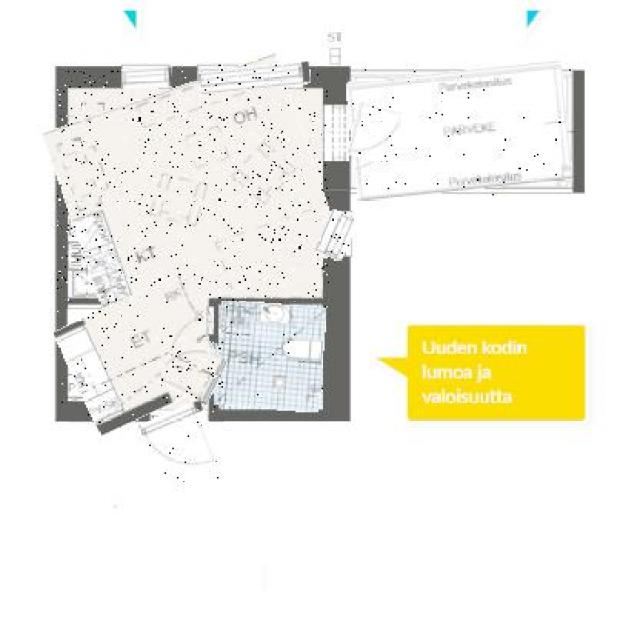door: (145, 406, 220, 483), (160, 342, 223, 400), (351, 105, 398, 162)
window: (198, 65, 311, 92), (318, 211, 356, 258), (121, 68, 174, 88)
zone: (57, 71, 331, 314), (349, 64, 571, 196), (62, 286, 218, 425), (217, 303, 325, 411)
